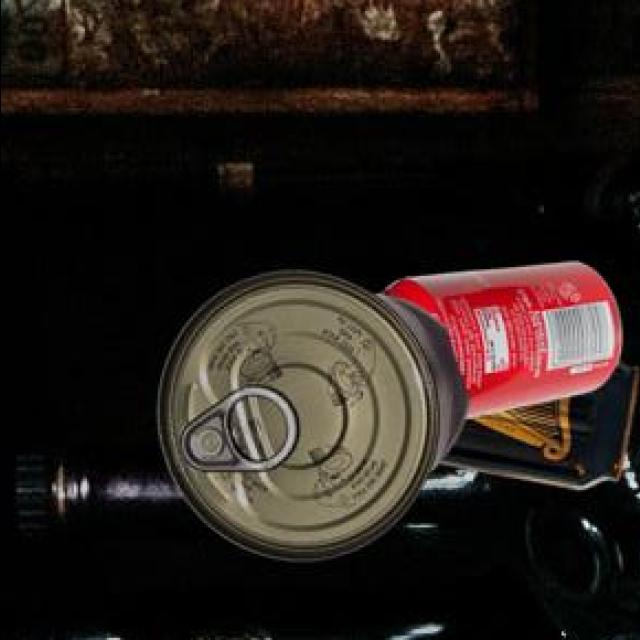logam: (153, 268, 465, 557), (374, 259, 617, 414), (434, 359, 634, 487)
